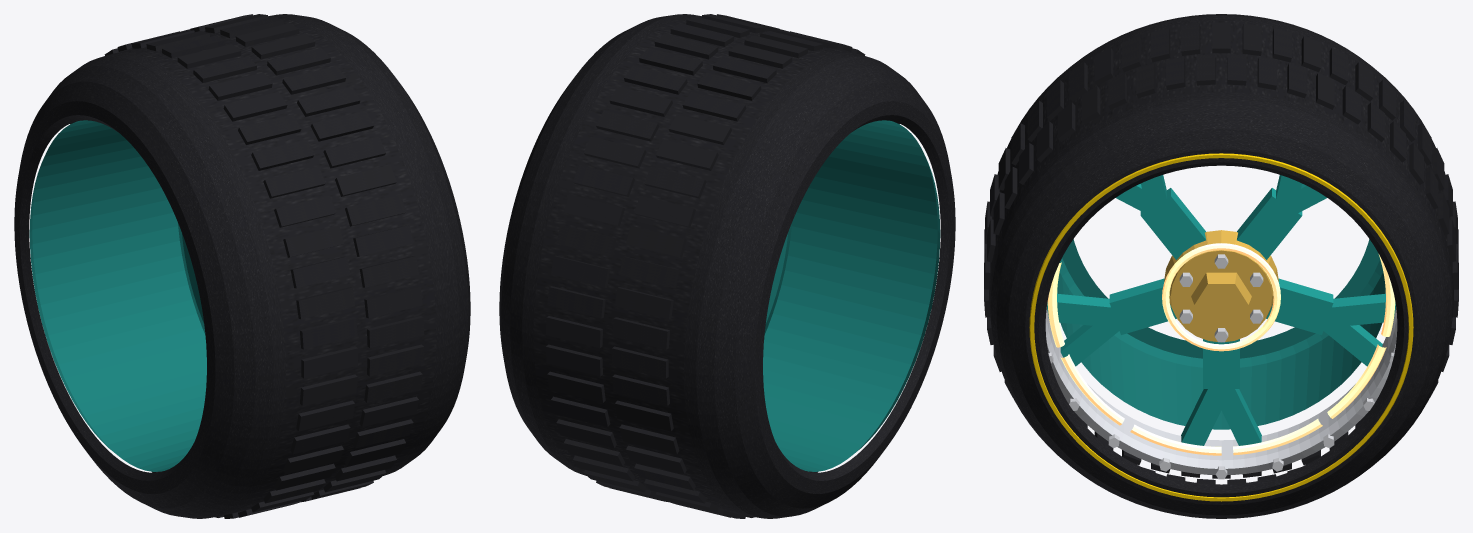
Rendered from tyre-starsplit.glb.
3 views of the same model, side by side, from view 1: azimuth 30°, elevation 25°; view 2: azimuth 150°, elevation 25°; view 3: azimuth 270°, elevation 25° (orthographic). The views are drawn at different scales.
Parts seen in each view (by area): view 1: Tyre_Rubber, Rim; view 2: Tyre_Rubber, Rim; view 3: Tyre_Rubber, Rim_Spokes, Rim, Rim_Lip, Hub, Tyre_Stripe, LED_Ring, Chrome, LED_Seg_1, LED_Seg_10, LED_Seg_2, LED_Seg_9 (+2 smaller).
Part boxes in pixels (x1,y1,x2,y2): Tyre_Rubber: (14,14,470,518); Rim: (29,120,206,471); Tyre_Rubber: (499,14,955,518); Rim: (763,120,940,471); Tyre_Rubber: (984,14,1458,518); Rim_Spokes: (1047,175,1395,445); Rim: (1057,239,1385,429); Rim_Lip: (1045,307,1397,475); Hub: (1164,230,1278,341); Tyre_Stripe: (1029,153,1413,501); LED_Ring: (1162,243,1280,351); Chrome: (1048,254,1394,479); LED_Seg_1: (1130,424,1221,455); LED_Seg_10: (1233,419,1322,455); LED_Seg_2: (1060,354,1124,425); LED_Seg_9: (1327,344,1386,418).
Size of the model in its own units: 0.1722 by 0.2807 by 0.2807.
Materials: 18 (1 with a texture image).
